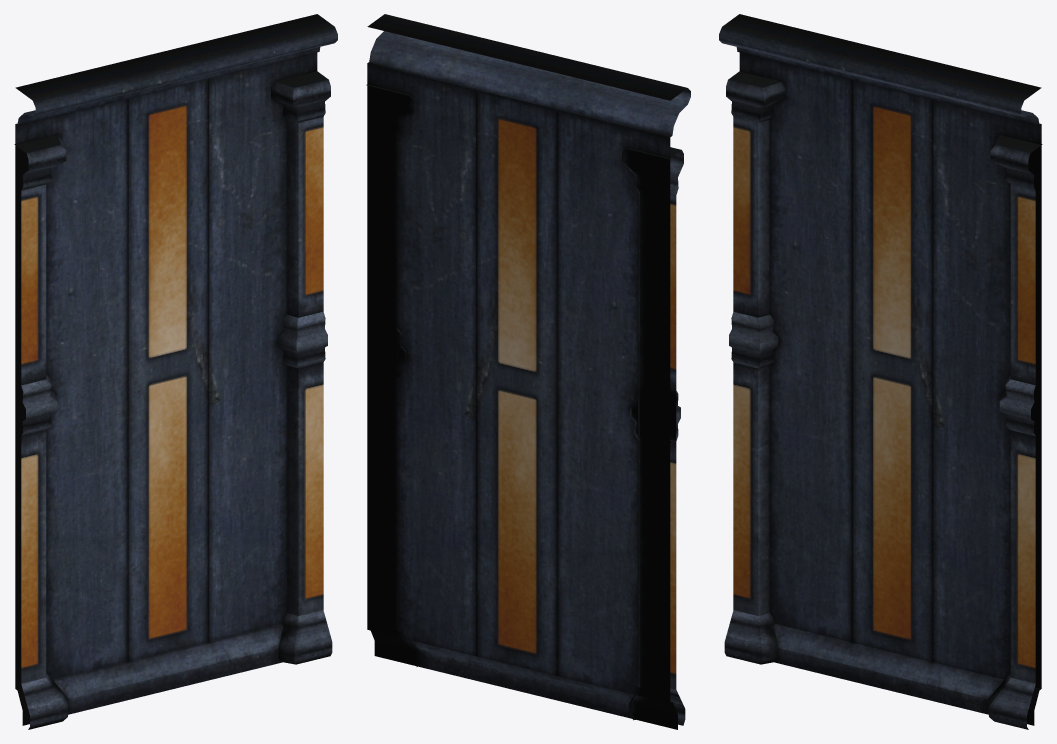
The model's file is short02_blue.dae.
3 renders of one model, left to right at view 1: azimuth 30°, elevation 25°; view 2: azimuth 150°, elevation 25°; view 3: azimuth 330°, elevation 25°, orthographic.
Visible parts, largest first — view 1: short02; view 2: short02; view 3: short02.
Part boxes in pixels (x1,y1,x2,y2): short02: (14, 14, 337, 729); short02: (366, 14, 690, 729); short02: (719, 14, 1042, 729).
Bounding box in the file's own units: 2 × 4 × 0.2475.
